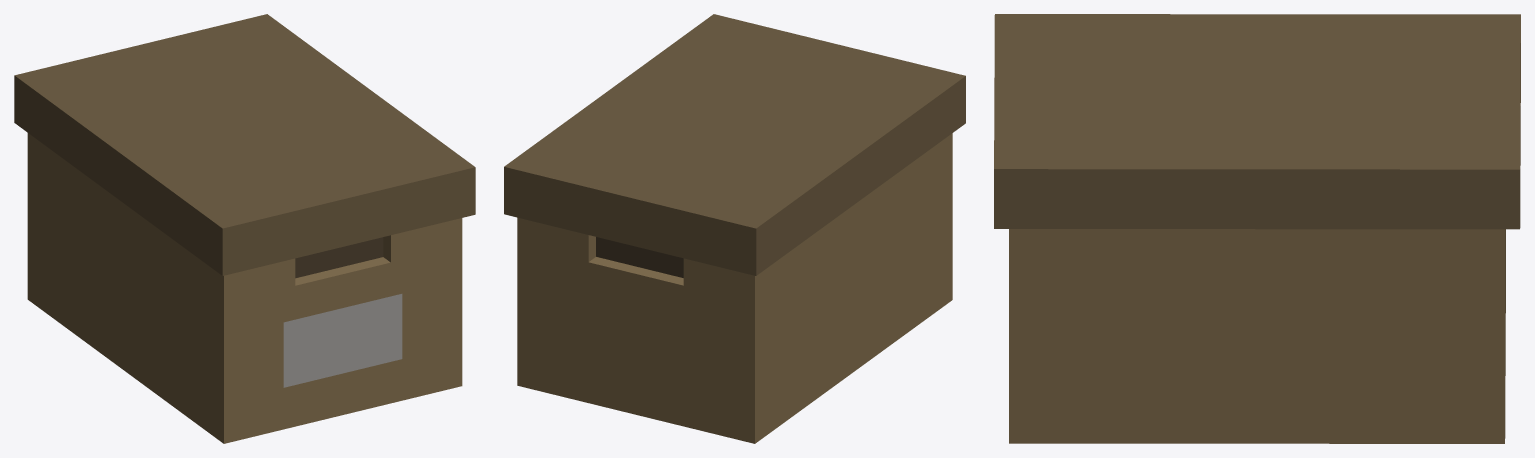
Rendered from SM_Prop_CardboardBox_02.fbx.
The picture shows the model from 3 angles, left to right: view 1: azimuth 30°, elevation 25°; view 2: azimuth 150°, elevation 25°; view 3: azimuth 270°, elevation 25°; orthographic projection. The views are drawn at different scales.
Parts seen in each view (by area): view 1: SM_Prop_CardboardBox_02; view 2: SM_Prop_CardboardBox_02; view 3: SM_Prop_CardboardBox_02.
Part boxes in pixels (x1,y1,x2,y2): SM_Prop_CardboardBox_02: (14, 14, 475, 443); SM_Prop_CardboardBox_02: (504, 14, 965, 443); SM_Prop_CardboardBox_02: (994, 14, 1520, 443).
Size of the model in its own units: 32.96 by 27.54 by 47.17.
